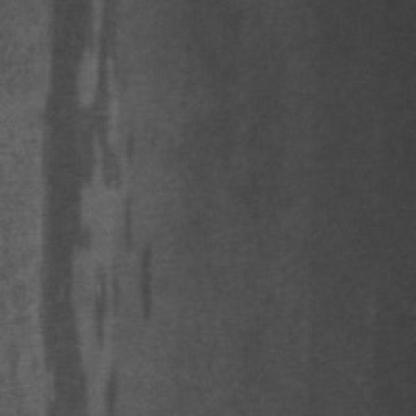inclusion: (42, 6, 137, 416)
